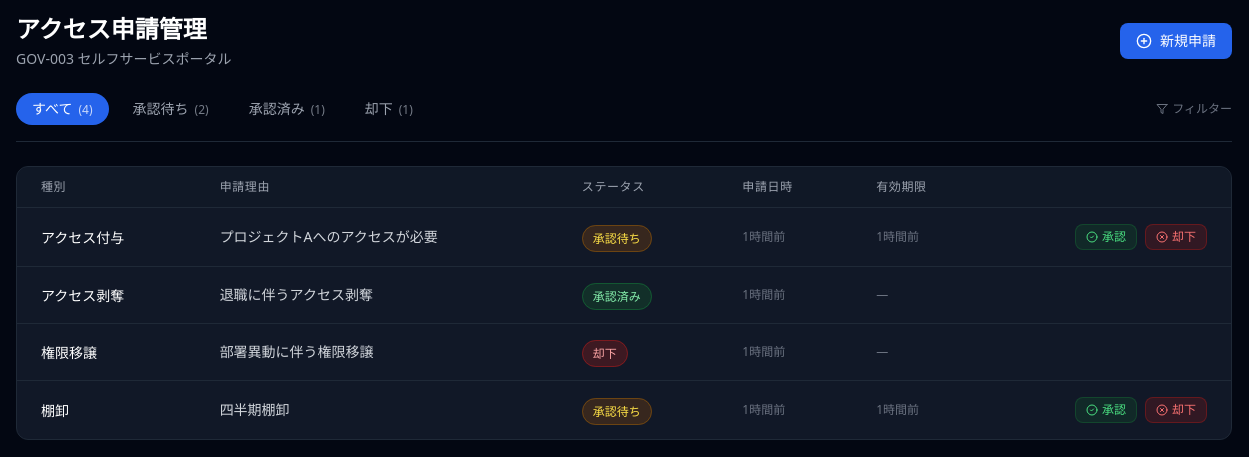
it: AccessRequestsPage › フィルター切替で表示が絞り込まれる
The width and height of the screenshot is (1249, 457).
Click the button "承認待ち(2)". click: (171,109)
box: [117,93,225,125]
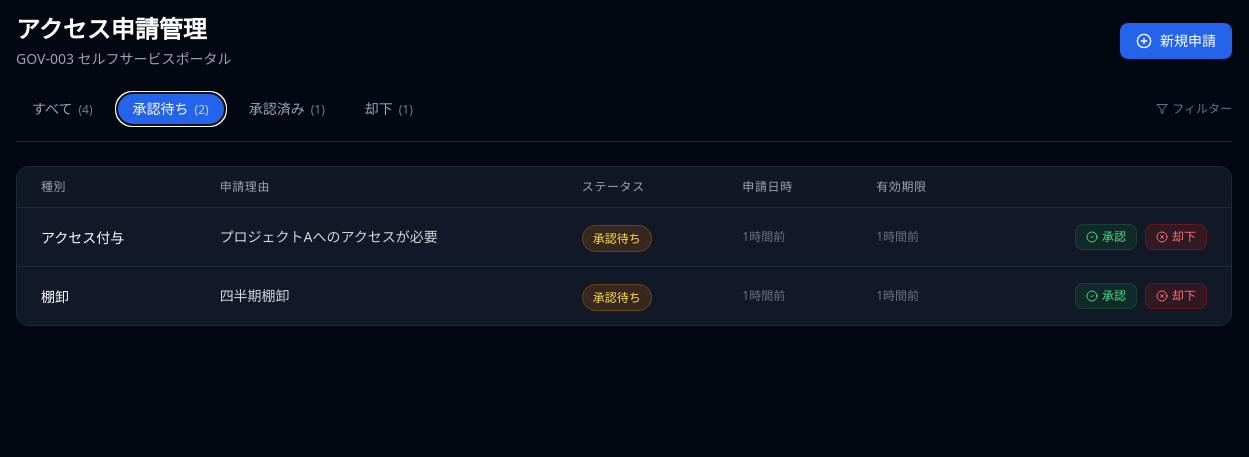
Expected: the text "プロジェクトAへのアクセスが必要" is shown, [220,227,438,246]
Expected: the text "退職に伴うアクセス剥奪" is gone
Expected: the text "部署異動に伴う権限移譲" is gone
